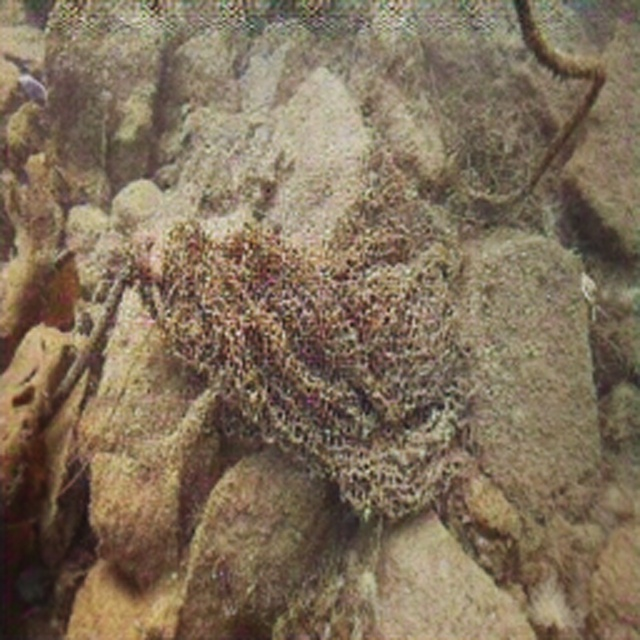mine: (161, 136, 475, 522)
